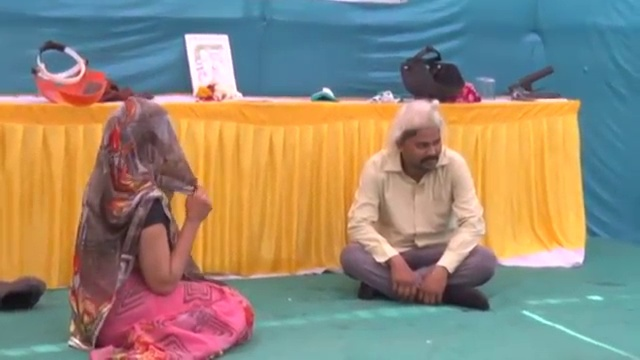helmet_off: (93, 98, 201, 193), (390, 103, 443, 171)
person: (63, 94, 255, 360), (340, 98, 497, 313)
